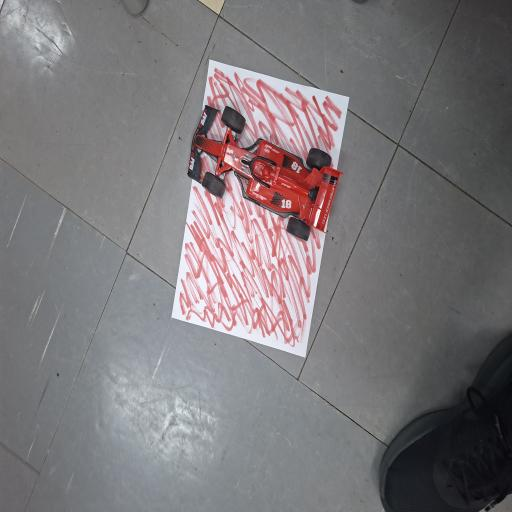carro: (188, 106, 341, 240)
